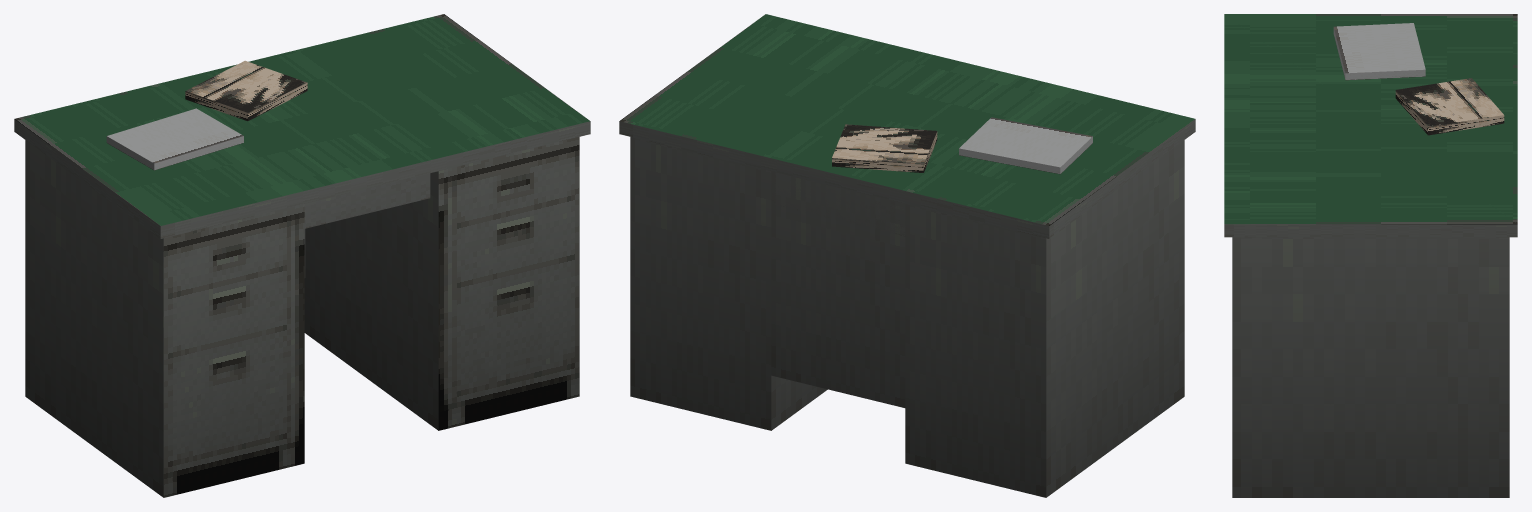
File: prop_staffdesk-5.glb
3 views of the same model, side by side, from view 1: azimuth 30°, elevation 25°; view 2: azimuth 150°, elevation 25°; view 3: azimuth 270°, elevation 25° (orthographic).
Visible parts, largest first — view 1: prop_staffdesk-5; view 2: prop_staffdesk-5; view 3: prop_staffdesk-5.
Part boxes in pixels (x1=…): prop_staffdesk-5: x1=14, y1=14, x2=590, y2=497; prop_staffdesk-5: x1=619, y1=14, x2=1195, y2=497; prop_staffdesk-5: x1=1224, y1=14, x2=1517, y2=497.
Size of the model in its own units: 1.18 by 0.756 by 0.6984.
4 materials, 4 textured.
